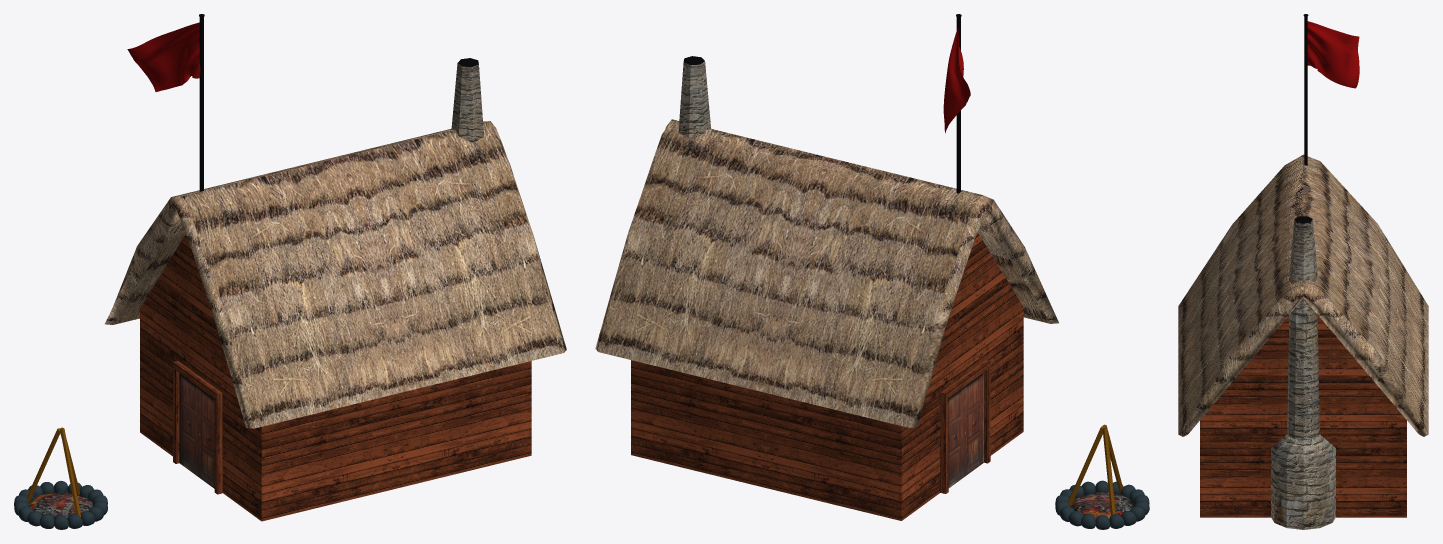
Rendered from Citadel_Wood.fbx.
3 views of the same model, side by side, from view 1: azimuth 30°, elevation 25°; view 2: azimuth 150°, elevation 25°; view 3: azimuth 270°, elevation 25° (orthographic). The views are drawn at different scales.
Parts seen in each view (by area): view 1: pCube22, polySurface2, polySurface1; view 2: pCube22, polySurface2; view 3: pCube22, polySurface2, polySurface1.
Part boxes in pixels (x1=…): pCube22: x1=14, y1=58, x2=566, y2=529; polySurface2: x1=127, y1=22, x2=200, y2=91; polySurface1: x1=199, y1=14, x2=204, y2=191; pCube22: x1=595, y1=56, x2=1149, y2=529; polySurface2: x1=943, y1=27, x2=970, y2=132; pCube22: x1=1178, y1=154, x2=1428, y2=529; polySurface2: x1=1307, y1=21, x2=1359, y2=88; polySurface1: x1=1303, y1=14, x2=1308, y2=165.
Size of the model in its own units: 40.53 by 37.23 by 21.47.
Materials: 1 (1 with a texture image).
